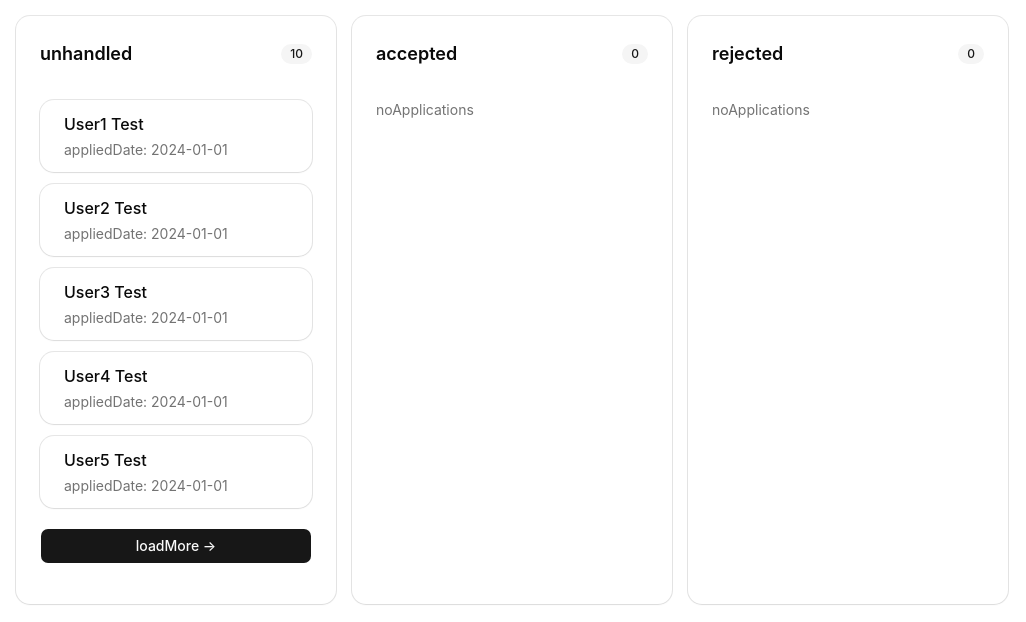
Test: ApplicationBoard › loads 5 more applications only for selected category when load more is clicked
Expected: the text "User1 Test" is shown, [64,114,144,134]
Expected: the text "User5 Test" is shown, [64,450,147,470]
Click the button "loadMore →".
click(176, 546)  # box [40,528,312,564]
(page scrolled)
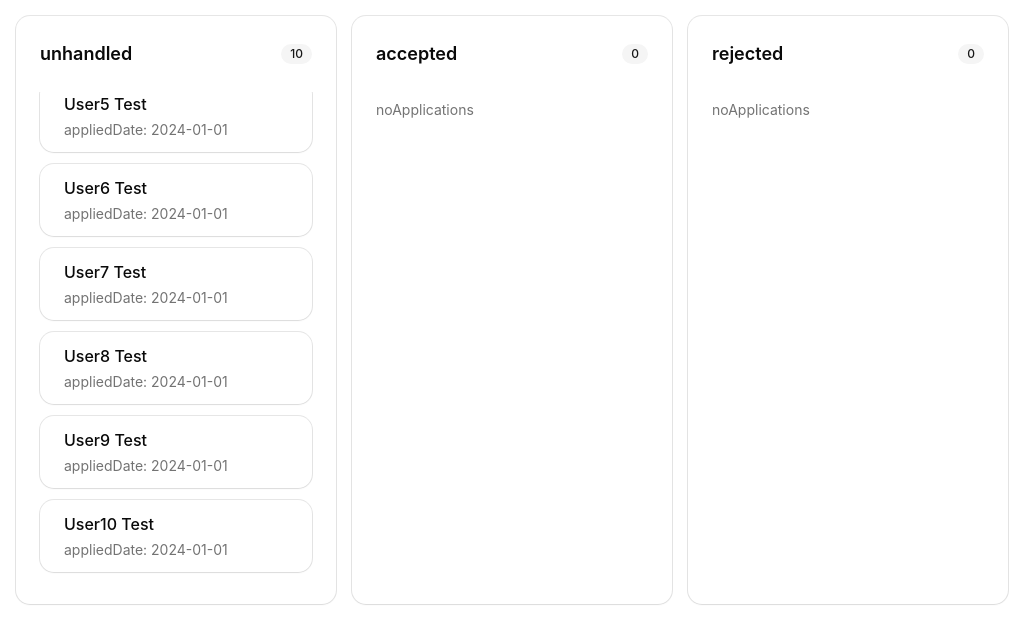
Result: the text "User6 Test" is shown at [64,178,147,198]
Result: the text "User10 Test" is shown at [64,514,154,534]
